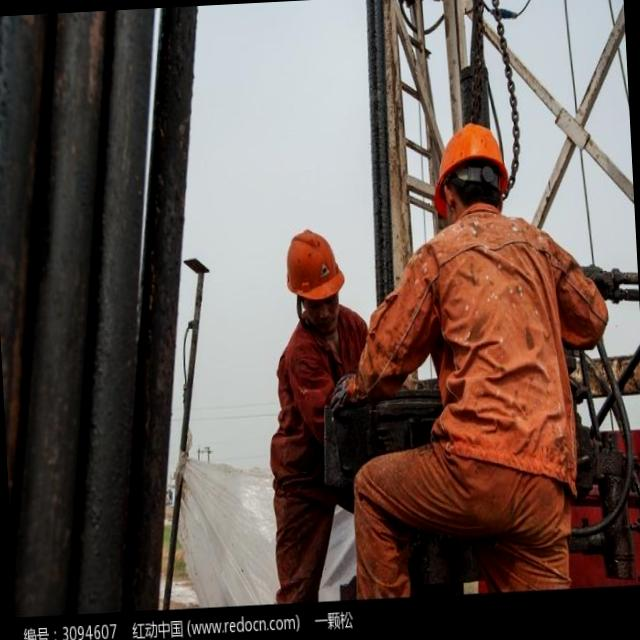helmet: (436, 122, 512, 183), (282, 228, 344, 298)
no-vest: (426, 200, 576, 488), (275, 316, 380, 472)
